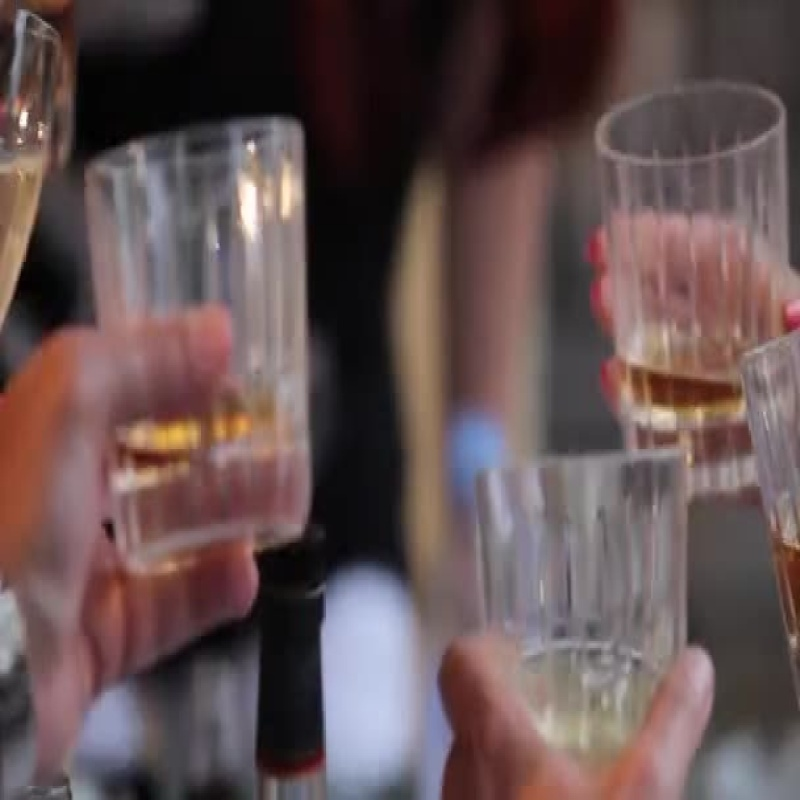whiskey: (100, 104, 310, 559), (599, 82, 777, 458)
